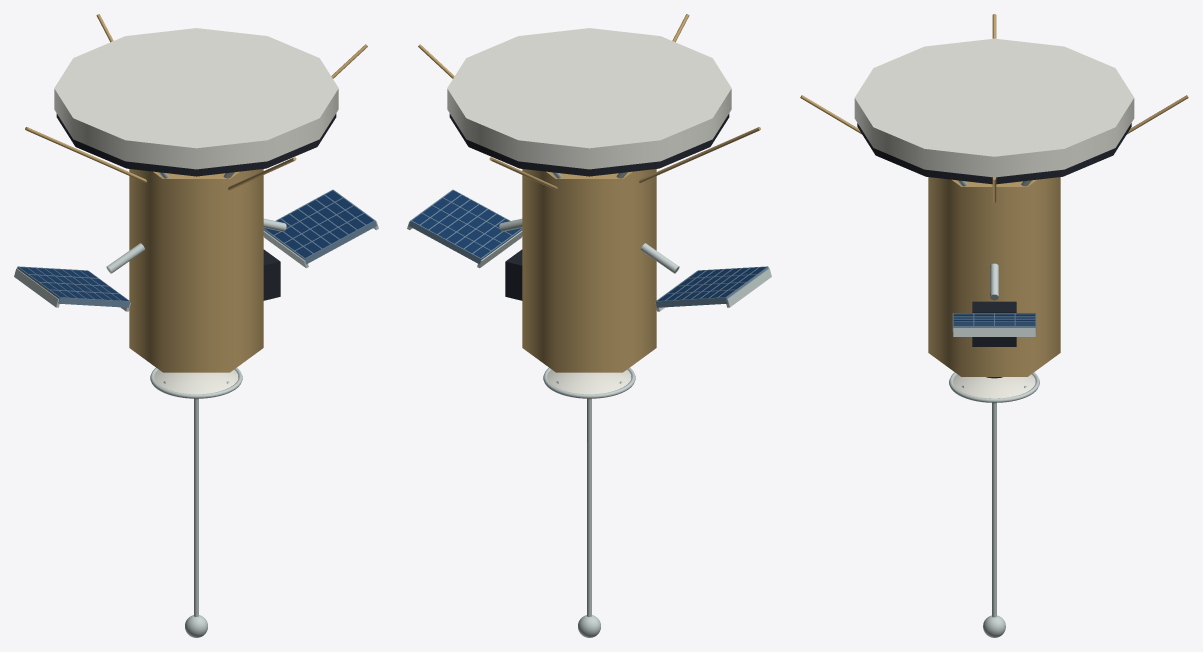
Rendered from parker-solar-probe.glb.
3 renders of one model, left to right at view 1: azimuth 30°, elevation 25°; view 2: azimuth 150°, elevation 25°; view 3: azimuth 270°, elevation 25°, orthographic.
Parts seen in each view (by area): view 1: heatshield, body, photovoltaic-panel (×2), solar (×3), instruments, reflector, antenna; view 2: heatshield, body, photovoltaic-panel (×2), solar (×3), instruments, reflector, antenna; view 3: heatshield, body, instruments, solar, reflector, photovoltaic-panel, antenna.
Boxes of the visible parts, x1,y1,x2,y2 form: heatshield: (54,28,338,176); body: (129,169,263,372); photovoltaic-panel (×2): (20,190,373,300); solar (×3): (14,189,378,311); instruments: (25,14,367,637); reflector: (154,369,238,394); antenna: (150,368,242,399); heatshield: (447,28,731,176); body: (522,169,656,372); photovoltaic-panel (×2): (412,190,765,300); solar (×3): (407,189,771,311); instruments: (418,14,760,637); reflector: (547,369,631,394); antenna: (543,368,635,399); heatshield: (854,38,1134,184); body: (928,177,1060,376); instruments: (800,14,1188,637); solar: (952,313,1036,336); reflector: (953,374,1035,398); photovoltaic-panel: (953,313,1035,325); antenna: (949,372,1039,403).
Bounding box in the file's own units: 3.05 × 4.7 × 3.06.
